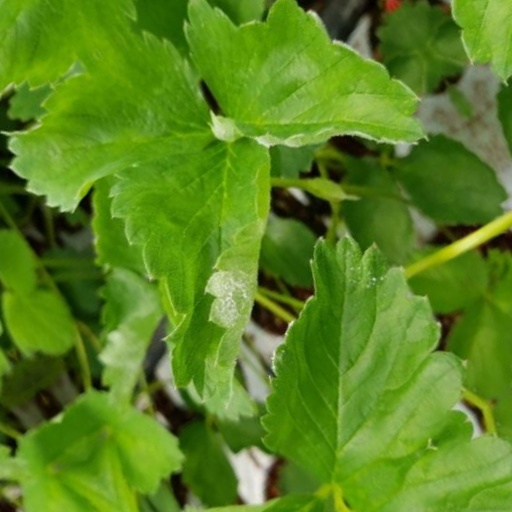Powdery Mildew Leaf: (101, 0, 327, 364), (154, 276, 376, 511), (290, 7, 481, 259)
